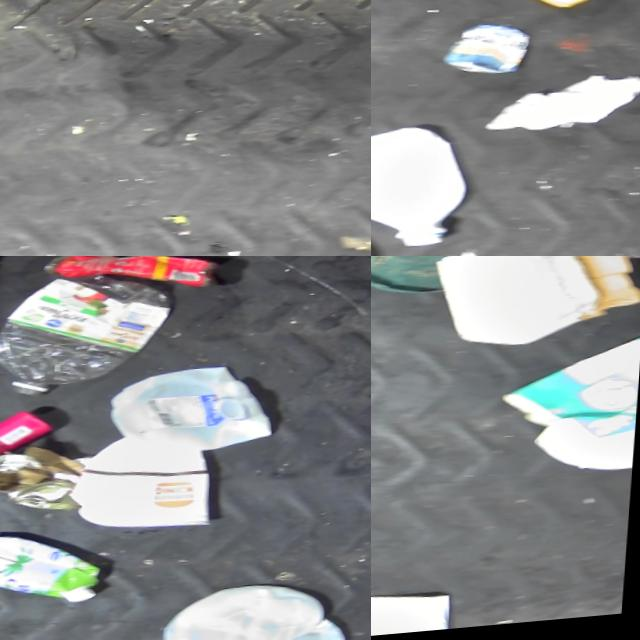can: (442, 25, 533, 87)
milk_jug: (429, 256, 609, 364), (107, 362, 279, 468), (371, 125, 474, 256), (160, 580, 358, 640), (371, 589, 453, 640)
non_white_jug: (496, 339, 640, 490), (0, 527, 106, 616), (482, 0, 618, 24)
plastic_bottle: (0, 266, 176, 407)
